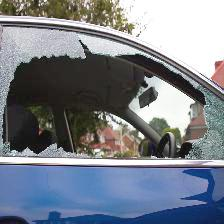glass_shatter: (9, 43, 203, 165)
